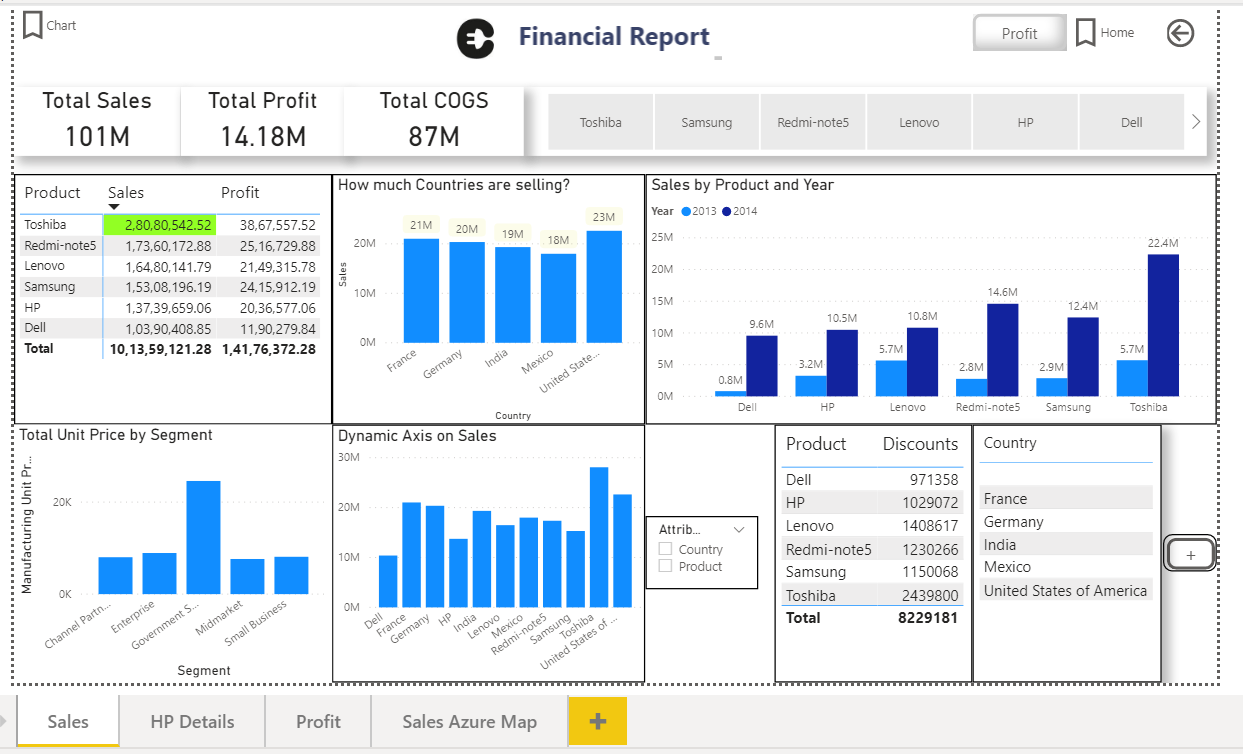

Layout of this report page (visuals, bound fields, positions):
{"tool":"powerbi","page":{"name":"Sales","canvas":[1280,720],"ordinal":0},"visuals":[{"type":"card","title":"Total Sales","fields":{"Values":["Finance Data set.Total Sales"]},"box":[0,86.2,176.4,73.6],"z":0,"group":"g1"},{"type":"clusteredColumnChart","fields":{"Category":["Finance Data set.Product","Finance Data set.Month Name"],"Y":["Sum(Finance Data set. Sales)"],"Series":["Finance Data set.Year"]},"box":[672.1,178.8,608.2,266.6],"z":0},{"type":"card","title":"Total Profit","fields":{"Values":["Finance Data set.Total Profit"]},"box":[176.4,86.2,174.8,73.6],"z":1000,"group":"g1"},{"type":"pivotTable","fields":{"Rows":["Finance Data set.Product"],"Values":["Sum(Finance Data set. Sales)","Sum(Finance Data set.Profit)"]},"box":[0,178.8,338.4,266.6],"z":1000},{"type":"card","title":"Total COGS","fields":{"Values":["Finance Data set.Total COGS"]},"box":[351.2,86.7,191.6,73.4],"z":1500,"group":"g1"},{"type":"textbox","title":"Financial Report","box":[518.8,12.8,239.5,49.5],"z":2000},{"type":"image","box":[445.4,8,89.4,54.3],"z":3000},{"type":"slicer","fields":{"Values":["Finance Data set.Product"]},"box":[542.8,86.2,726.4,73.4],"z":4000},{"type":"actionButton","box":[1221.3,4.8,39.9,47.9],"z":5000},{"type":"actionButton","title":"+","box":[1222.9,562,57.5,39.9],"z":6000},{"type":"actionButton","box":[0,0,100.6,39.9],"z":7000},{"type":"actionButton","box":[1120.7,8,107,39.9],"z":8000},{"type":"tableEx","fields":{"Values":["Finance Data set.Country"]},"box":[1020.1,445.4,201.2,274.6],"z":9000},{"type":"clusteredColumnChart","title":"Dynamic Axis on Sales","fields":{"Y":["Sum(Finance Data set. Sales)"],"Category":["Finance Data Unpivot.Value"]},"box":[338.4,445.4,333.7,274.6],"z":11000},{"type":"slicer","fields":{"Values":["Finance Data Unpivot.Attribute"]},"box":[672.1,542.8,119.7,78.2],"z":12000},{"type":"group","id":"g1","title":"Group 1","box":[0,86.2,542.8,73.4],"z":13000},{"type":"actionButton","box":[1020.1,8,100.6,39.9],"z":14000},{"type":"tableEx","fields":{"Values":["Finance Data set.Product","Sum(Finance Data set.Discounts)"]},"box":[809.4,445.4,210.7,274.6],"z":15000},{"type":"clusteredColumnChart","title":"How much Countries are selling?","fields":{"Y":["Sum(Finance Data set. Sales)"],"Category":["Finance Data set.Country"]},"box":[338.4,178.8,333.7,266.6],"z":16000},{"type":"clusteredColumnChart","title":"Total Unit Price by Segment","fields":{"Category":["Finance Data set.Segment"],"Y":["Sum(Finance Data set.Manufacturing Unit Price)"]},"box":[0,445.4,338.4,274.6],"z":17000}]}

Visuals, with their boxes on the page's 1280x720 design canvas (x1, y1, x2, y2). These are canvas units, not pixel positions in the 1243x754 screenshot, which may show the page scaled, cropped or inside an application window:
"Total Sales" card: detection(0, 86, 176, 160)
clusteredColumnChart - Finance Data set.Product x Finance Data set.Month Name: detection(672, 179, 1280, 445)
"Total Profit" card: detection(176, 86, 351, 160)
pivotTable - Finance Data set.Product x Sum(Finance Data set. Sales): detection(0, 179, 338, 445)
"Total COGS" card: detection(351, 87, 543, 160)
"Financial Report" textbox: detection(519, 13, 758, 62)
image: detection(445, 8, 535, 62)
slicer - Finance Data set.Product: detection(543, 86, 1269, 160)
actionButton: detection(1221, 5, 1261, 53)
"+" actionButton: detection(1223, 562, 1280, 602)
actionButton: detection(0, 0, 101, 40)
actionButton: detection(1121, 8, 1228, 48)
tableEx - Finance Data set.Country: detection(1020, 445, 1221, 720)
"Dynamic Axis on Sales" clusteredColumnChart: detection(338, 445, 672, 720)
slicer - Finance Data Unpivot.Attribute: detection(672, 543, 792, 621)
"Group 1" group: detection(0, 86, 543, 160)
actionButton: detection(1020, 8, 1121, 48)
tableEx - Finance Data set.Product x Sum(Finance Data set.Discounts): detection(809, 445, 1020, 720)
"How much Countries are selling?" clusteredColumnChart: detection(338, 179, 672, 445)
"Total Unit Price by Segment" clusteredColumnChart: detection(0, 445, 338, 720)
